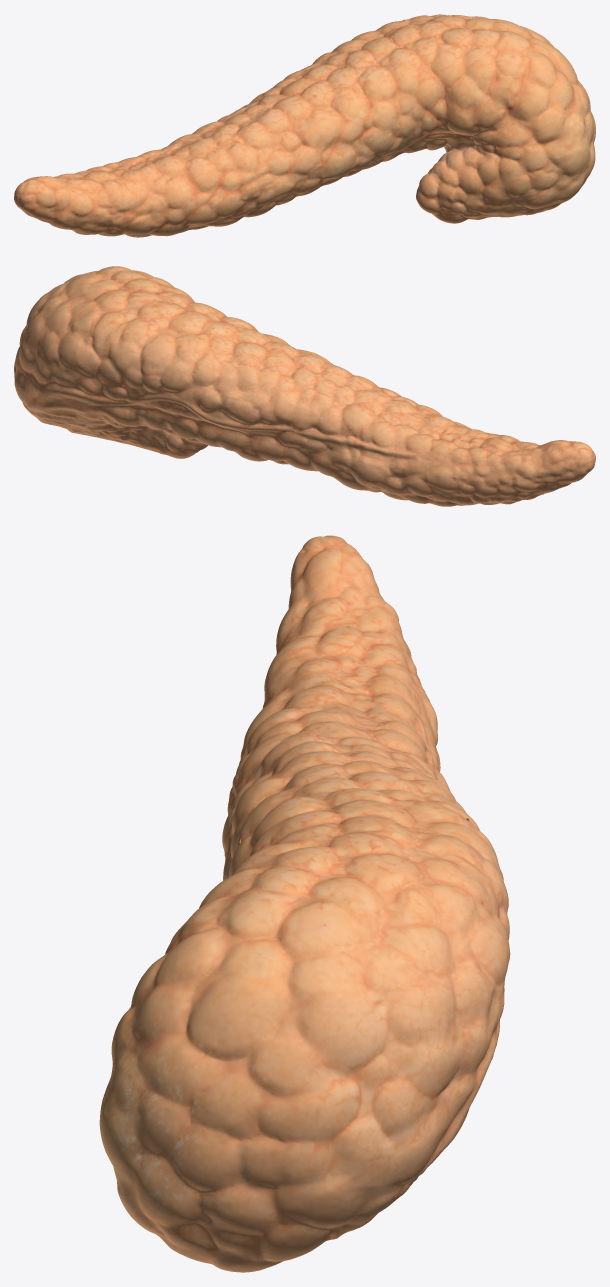
File: Meshy_AI_Intestine_0518181559_texture.fbx
3 renders of one model, top to bottom at view 1: azimuth 30°, elevation 25°; view 2: azimuth 150°, elevation 25°; view 3: azimuth 270°, elevation 25°, orthographic. The views are drawn at different scales.
Visible parts, largest first — view 1: Mesh_0; view 2: Mesh_0; view 3: Mesh_0.
Part boxes in pixels (left/top/right/bottom): Mesh_0: left=14, top=14, right=595, bottom=237; Mesh_0: left=14, top=266, right=595, bottom=506; Mesh_0: left=99, top=535, right=510, bottom=1272.
Size of the model in its own units: 190 by 57.74 by 60.83.
1 material, 1 textured.
